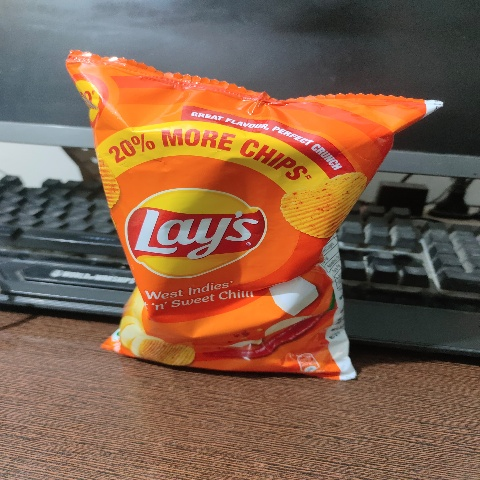lays_orange_pack: (48, 18, 432, 411)
